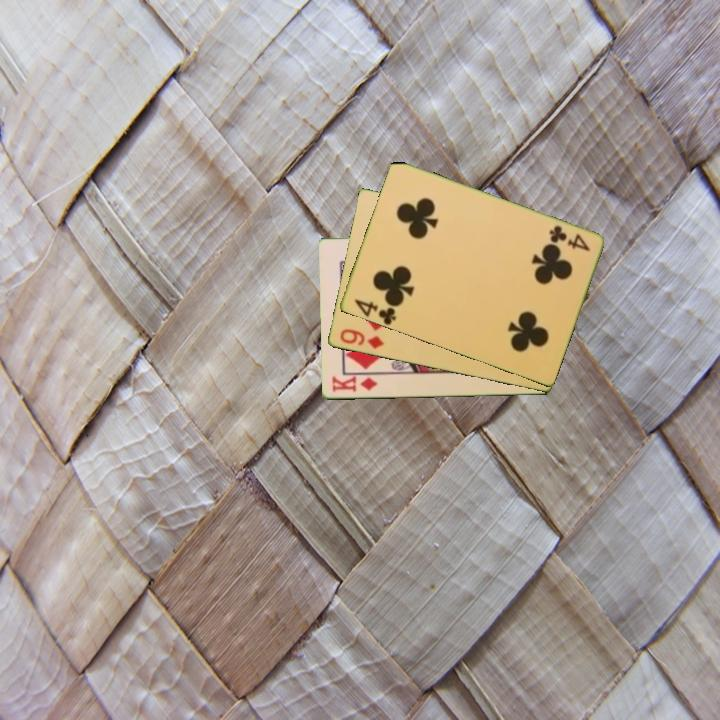4c: (545, 222, 593, 254), (350, 296, 399, 327)
9d: (336, 326, 387, 352)
Kd: (328, 373, 380, 395)
